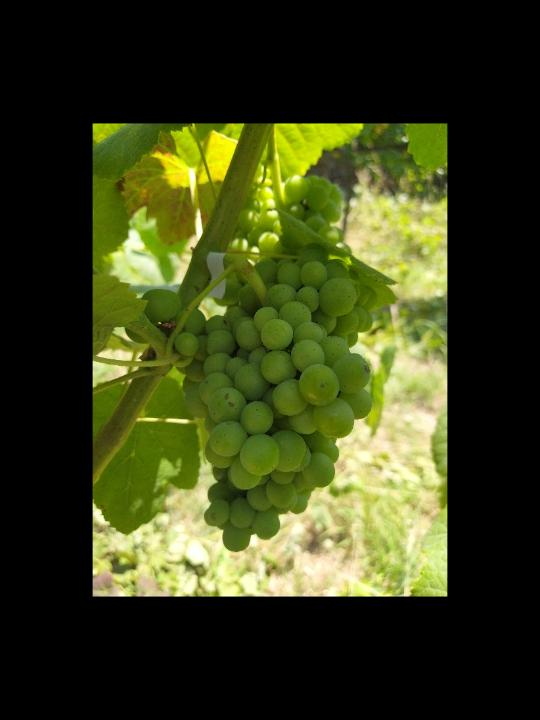grape: (125, 243, 373, 554)
